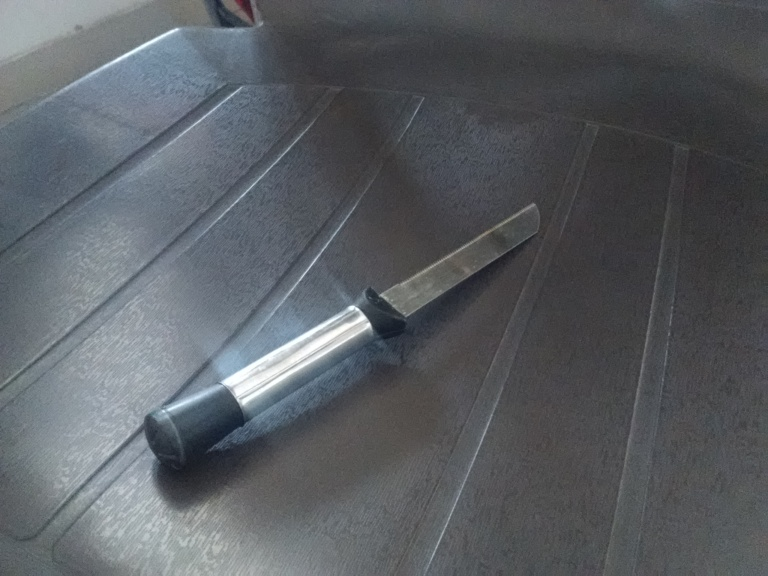knife: (140, 202, 541, 471)
